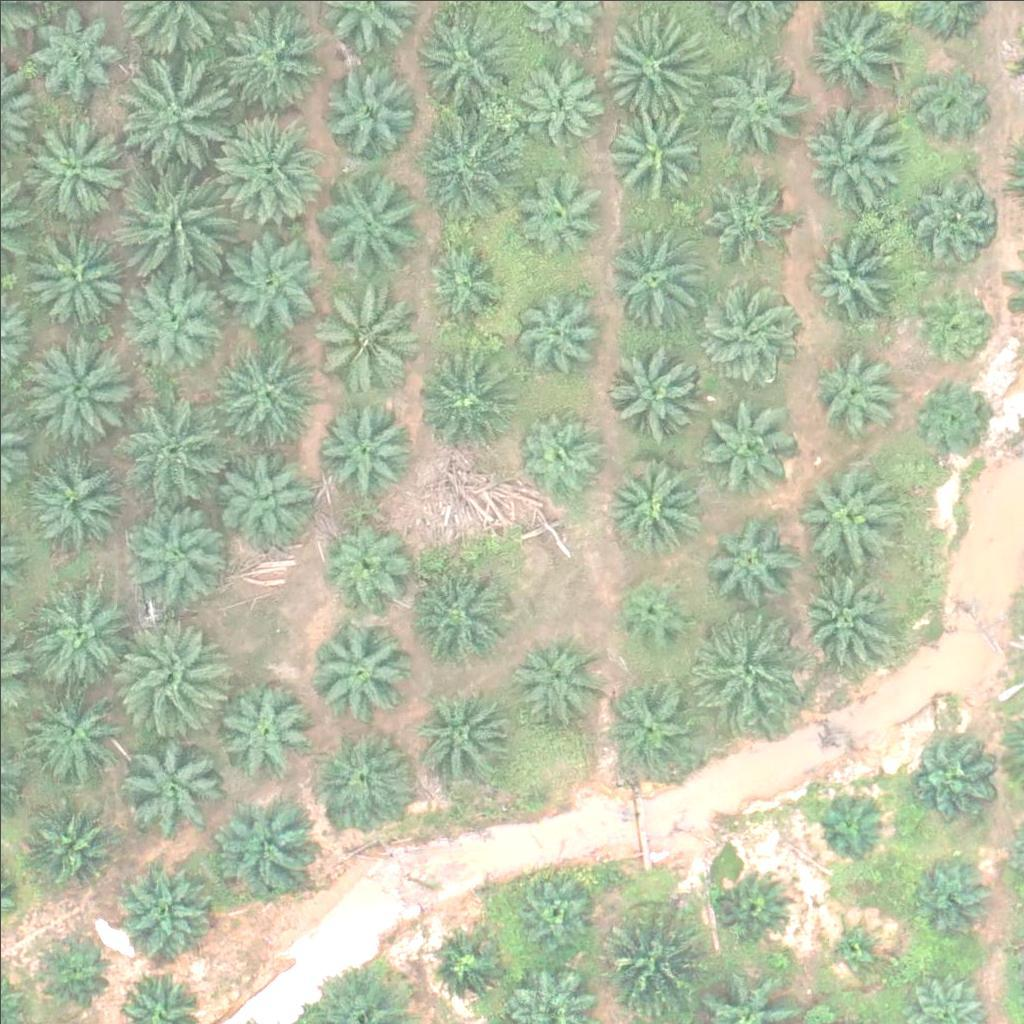Kelapa_Sawit: (691, 610, 804, 724), (121, 162, 234, 275), (314, 161, 427, 274), (408, 6, 521, 119), (407, 106, 520, 219), (213, 340, 326, 453), (598, 6, 710, 120), (592, 909, 704, 1022), (17, 110, 129, 223), (116, 50, 228, 163), (213, 114, 325, 227), (19, 335, 131, 448), (115, 390, 227, 503), (121, 500, 233, 613), (114, 620, 226, 733), (305, 277, 417, 390), (599, 675, 699, 776), (119, 736, 219, 837), (221, 797, 321, 898), (313, 732, 413, 833), (413, 683, 513, 784), (322, 55, 422, 156), (599, 95, 699, 196), (707, 47, 807, 148), (800, 1, 900, 102), (31, 582, 131, 683), (27, 449, 127, 550), (32, 221, 132, 322), (123, 266, 223, 367), (216, 445, 316, 546), (223, 231, 323, 332), (311, 397, 411, 498), (308, 622, 408, 723), (412, 562, 512, 663), (699, 281, 799, 382), (807, 340, 907, 441), (116, 851, 216, 951), (217, 682, 317, 782), (801, 221, 901, 321), (798, 105, 898, 205), (21, 676, 121, 776), (417, 344, 517, 444), (603, 455, 703, 555), (603, 342, 703, 442), (604, 227, 704, 327), (695, 397, 795, 497), (791, 567, 891, 667), (800, 461, 900, 561), (903, 725, 991, 813), (420, 920, 508, 1008), (520, 164, 608, 252), (516, 52, 604, 140), (697, 163, 785, 251), (909, 276, 997, 364), (905, 58, 993, 146), (420, 243, 508, 331), (510, 633, 598, 721), (906, 858, 993, 946), (508, 865, 595, 953), (29, 798, 116, 886), (908, 175, 995, 263), (321, 523, 408, 611), (514, 289, 601, 377), (517, 412, 604, 500), (707, 512, 794, 600), (908, 375, 995, 463), (718, 869, 793, 945), (615, 575, 690, 651), (812, 787, 887, 862), (33, 926, 108, 1001), (823, 910, 886, 973)
